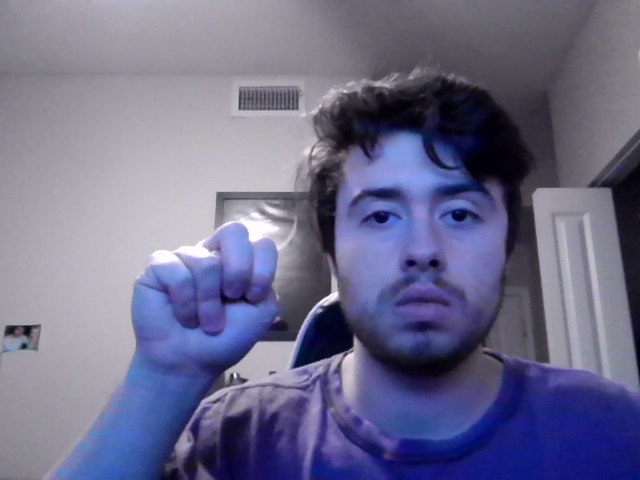n: (130, 222, 279, 384)
